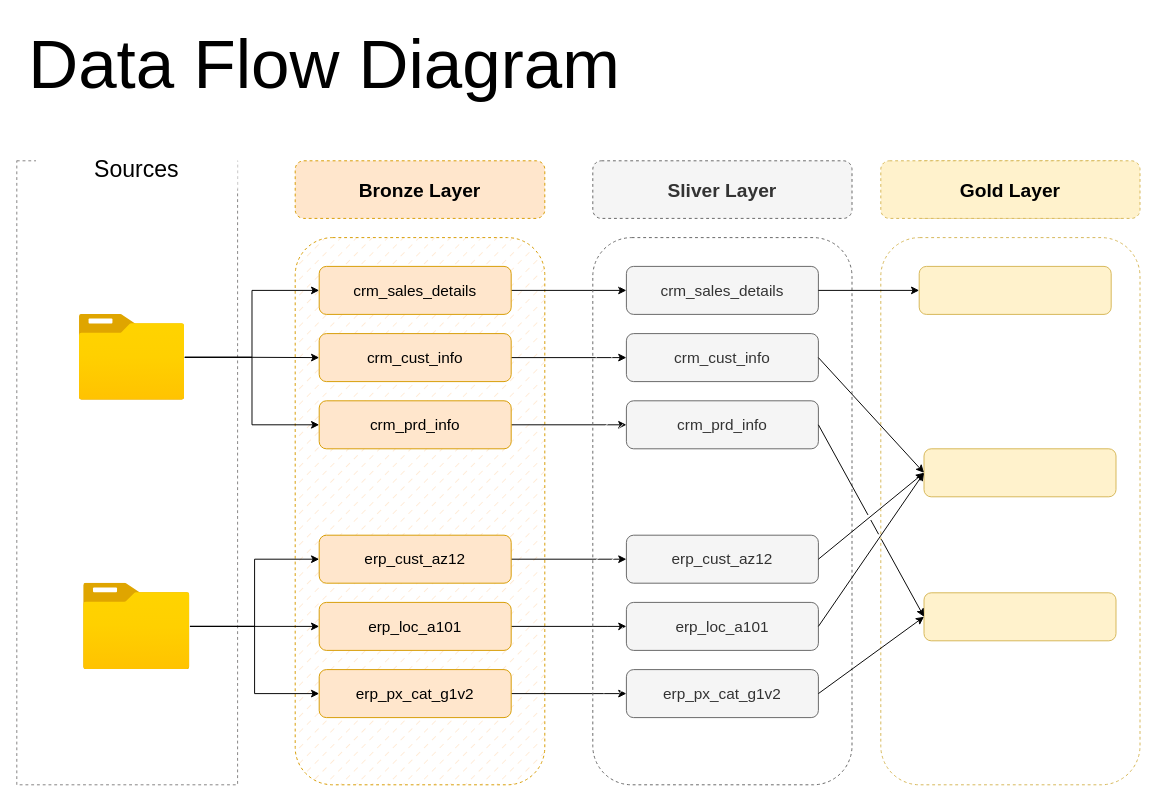
Some shapes in this 1157 by 802 pixel diagram are drawn without their labels. The box of each missing label's shape, as (x1, y1, x2, y2) in pixels:
CRM: (79, 314, 184, 400)
dim_customers: (923, 448, 1116, 497)
dim_products: (923, 592, 1116, 641)
ERP: (83, 583, 190, 669)
fact_sales: (918, 265, 1111, 314)
